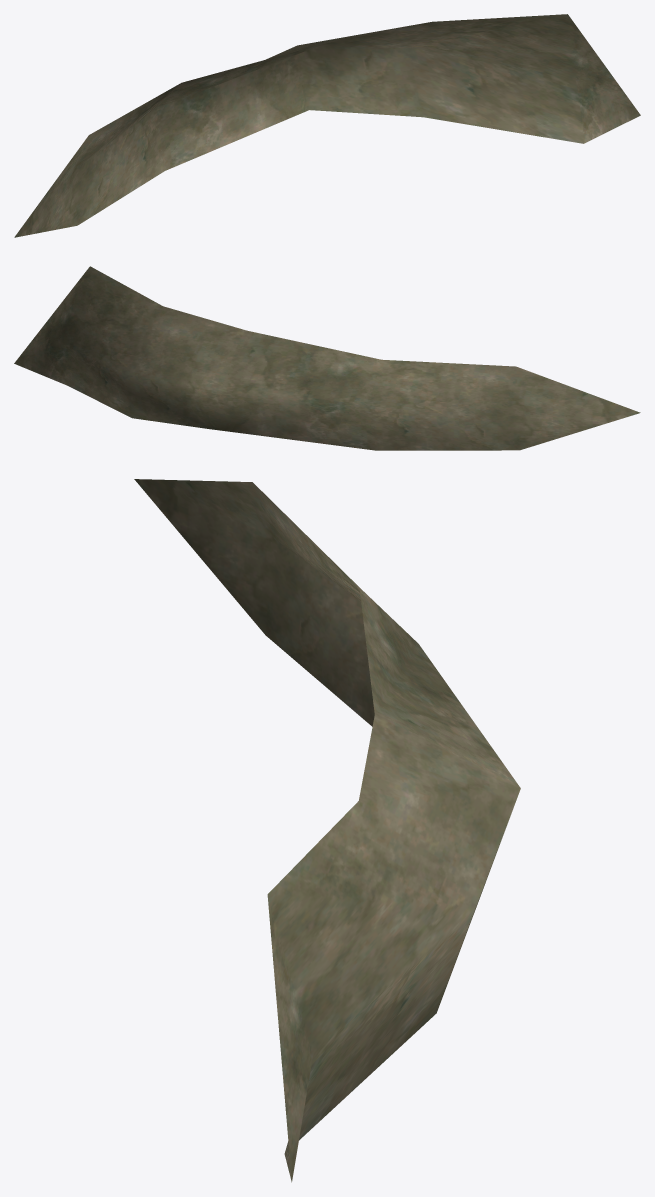
The model's file is OVERHILL_A_01_OBJECT185.fbx.
The picture shows the model from 3 angles, top to bottom: view 1: azimuth 30°, elevation 25°; view 2: azimuth 150°, elevation 25°; view 3: azimuth 270°, elevation 25°; orthographic projection. The views are drawn at different scales.
Visible parts, largest first — view 1: OVERHILL_A_01_OBJECT185; view 2: OVERHILL_A_01_OBJECT185; view 3: OVERHILL_A_01_OBJECT185.
Boxes of the visible parts, box(x1,y1,x2,y2) form: OVERHILL_A_01_OBJECT185: box(14, 14, 640, 237); OVERHILL_A_01_OBJECT185: box(14, 266, 640, 450); OVERHILL_A_01_OBJECT185: box(134, 479, 520, 1182).
Bounding box in the file's own units: 76969 × 15142 × 21944.
1 material, 1 textured.
